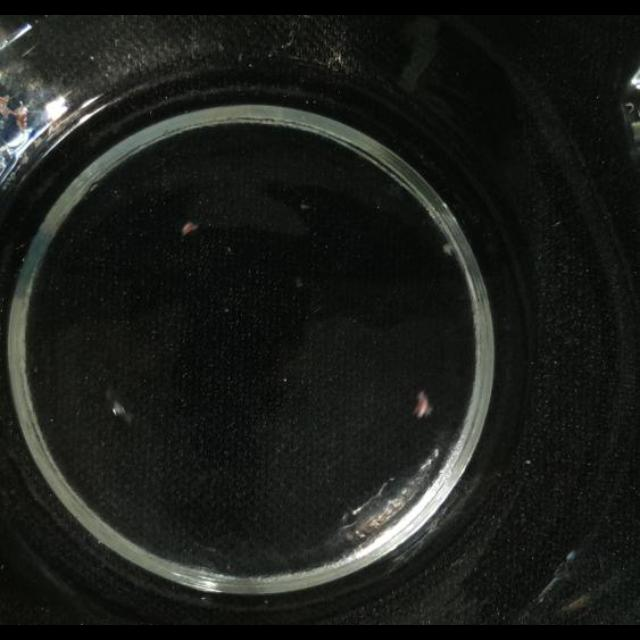Fibre: (106, 387, 132, 423)
Fragment: (414, 390, 434, 418), (182, 222, 198, 235)
microbeads: (442, 242, 456, 256), (299, 201, 311, 211), (294, 276, 304, 288), (525, 458, 531, 464)
